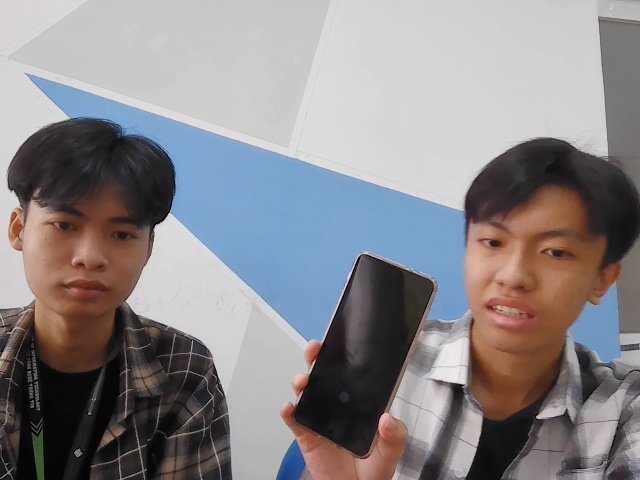human: (461, 140, 640, 355), (7, 118, 175, 318)
phone: (290, 251, 443, 464)
